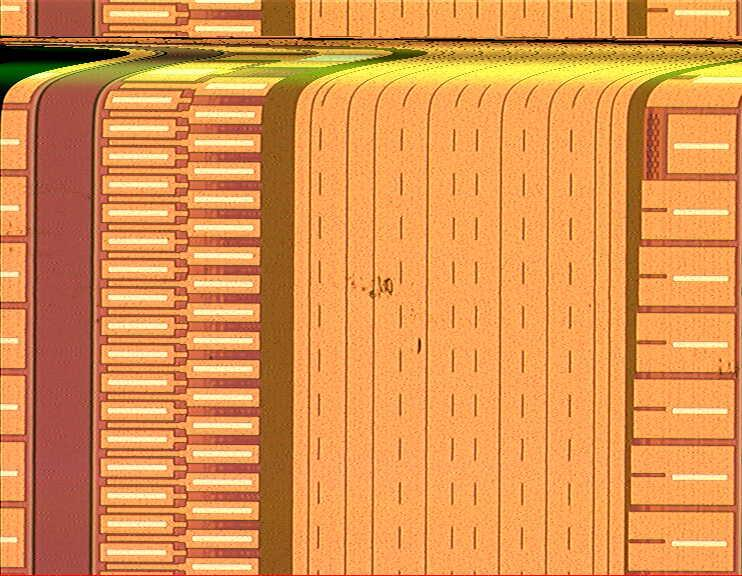PIQ PARTICLE: (335, 261, 431, 358)
